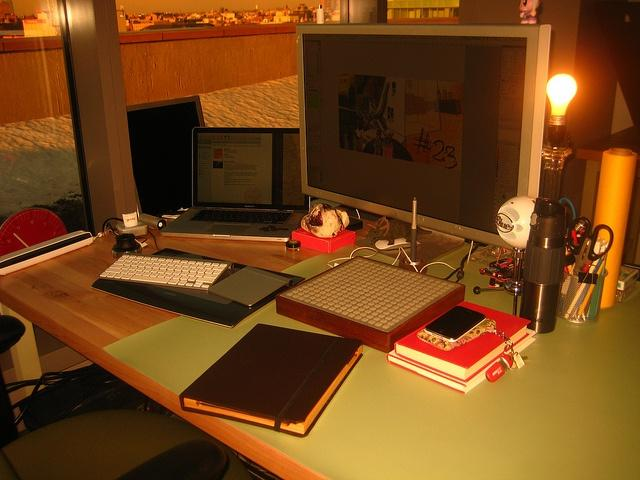AIO PC-Monitor-TV: (294, 23, 551, 250)
